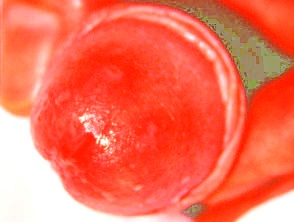SJS-TEN: (15, 43, 186, 222)
